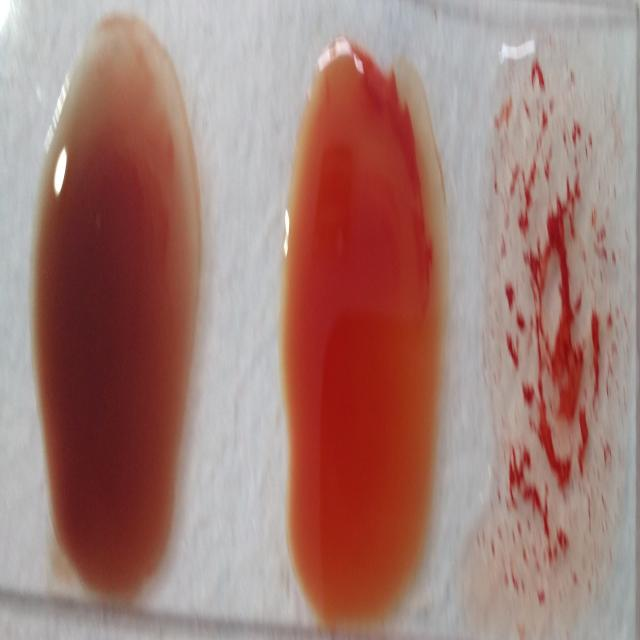D: (486, 44, 622, 603)
